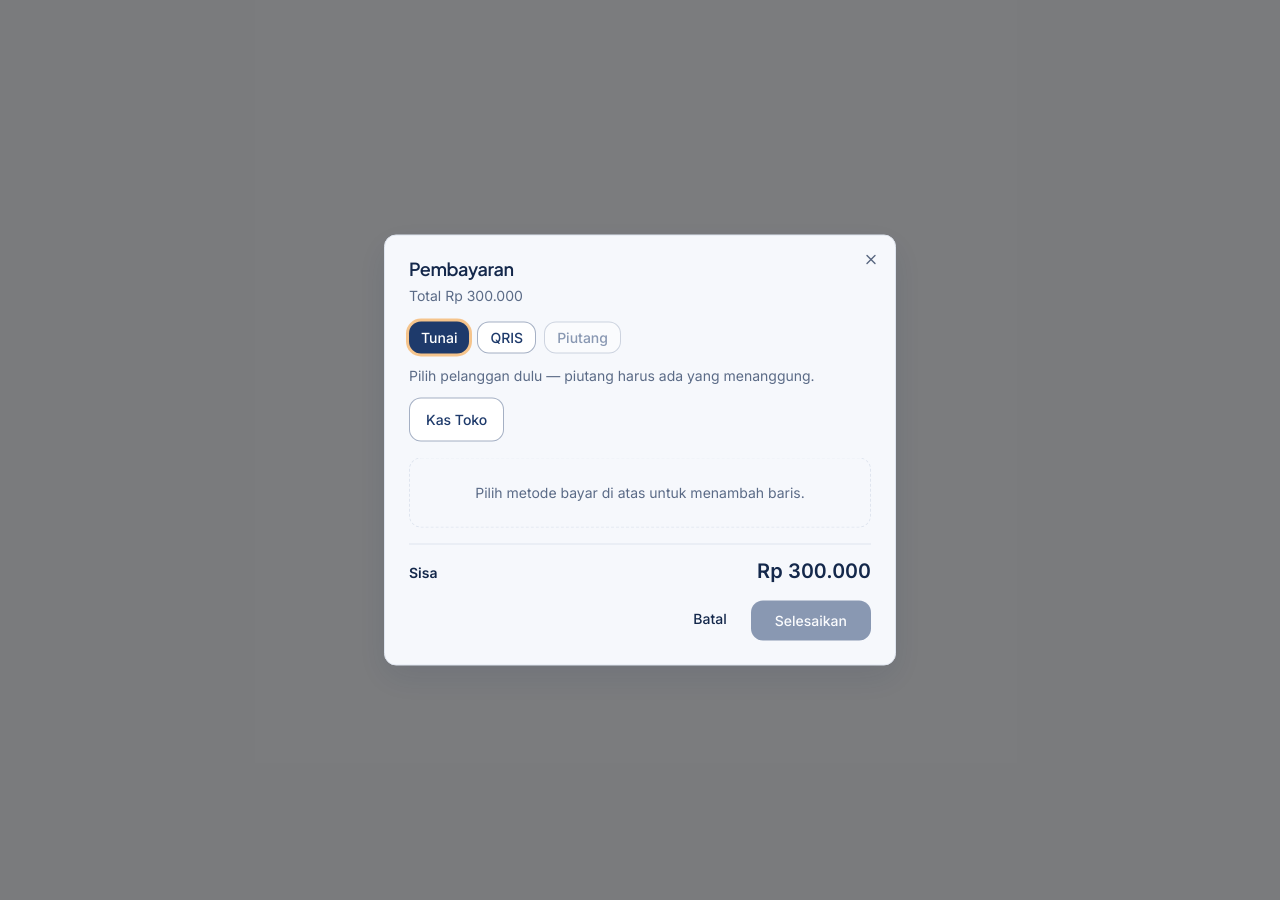
it: PosPaymentDialog — the remainder › refuses an overpayment that no cash line can absorb
Click the button "QRIS" at (507, 338), box [477,322,536,354]
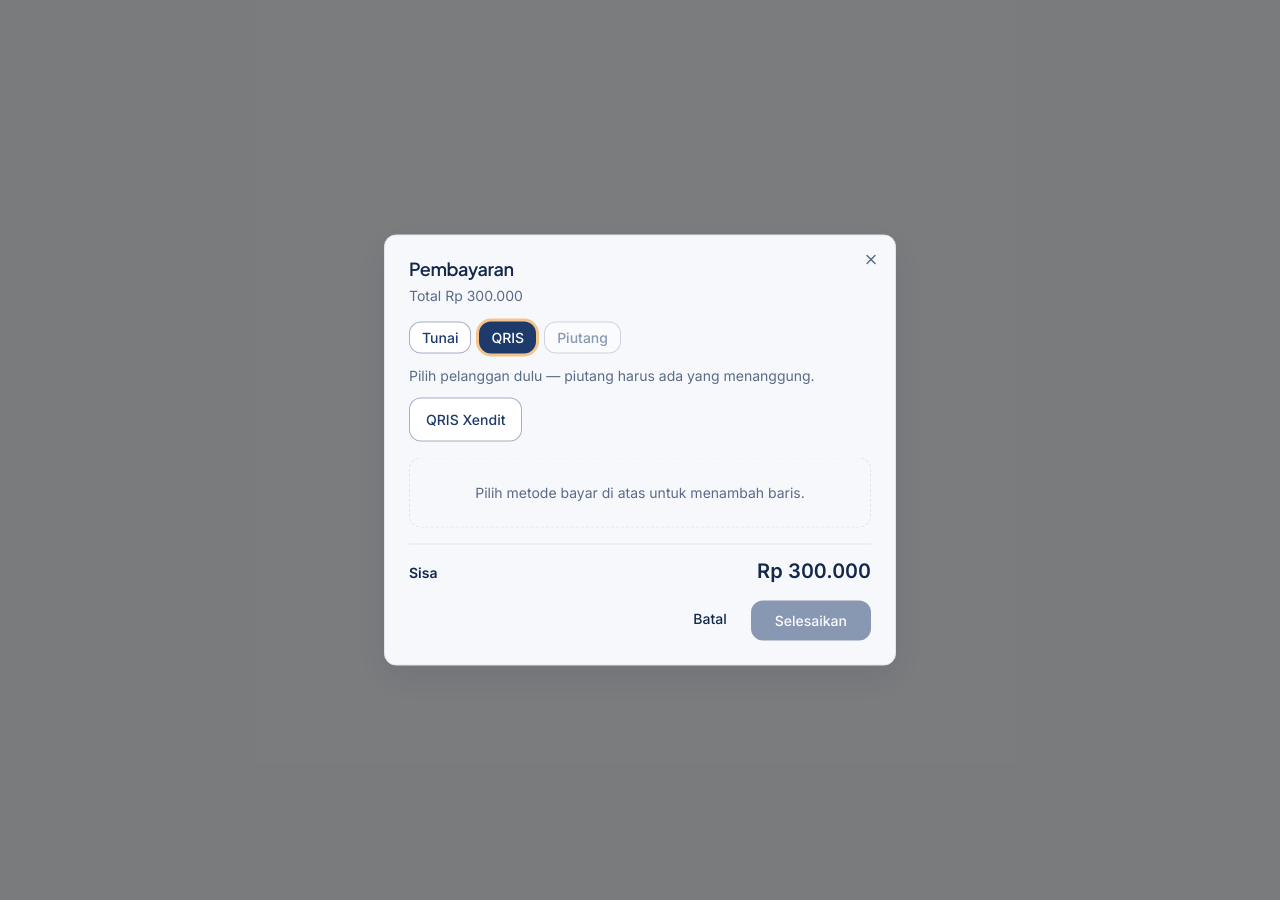
Click the button "QRIS Xendit" at (466, 420), box [409,398,522,442]
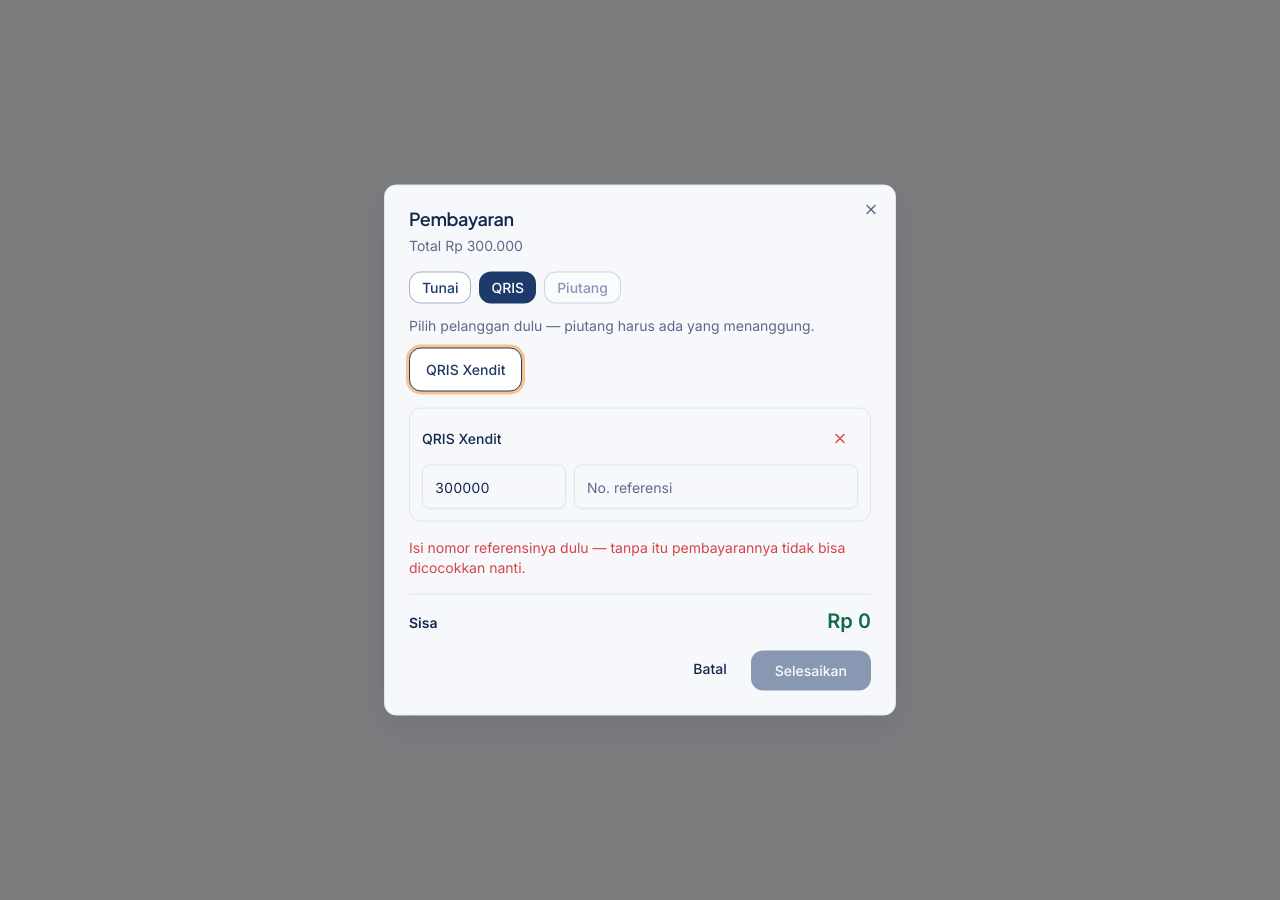
Replace the text in the field named "jumlah qris xendit" with "350000" at (494, 486), box [422,464,566,508]
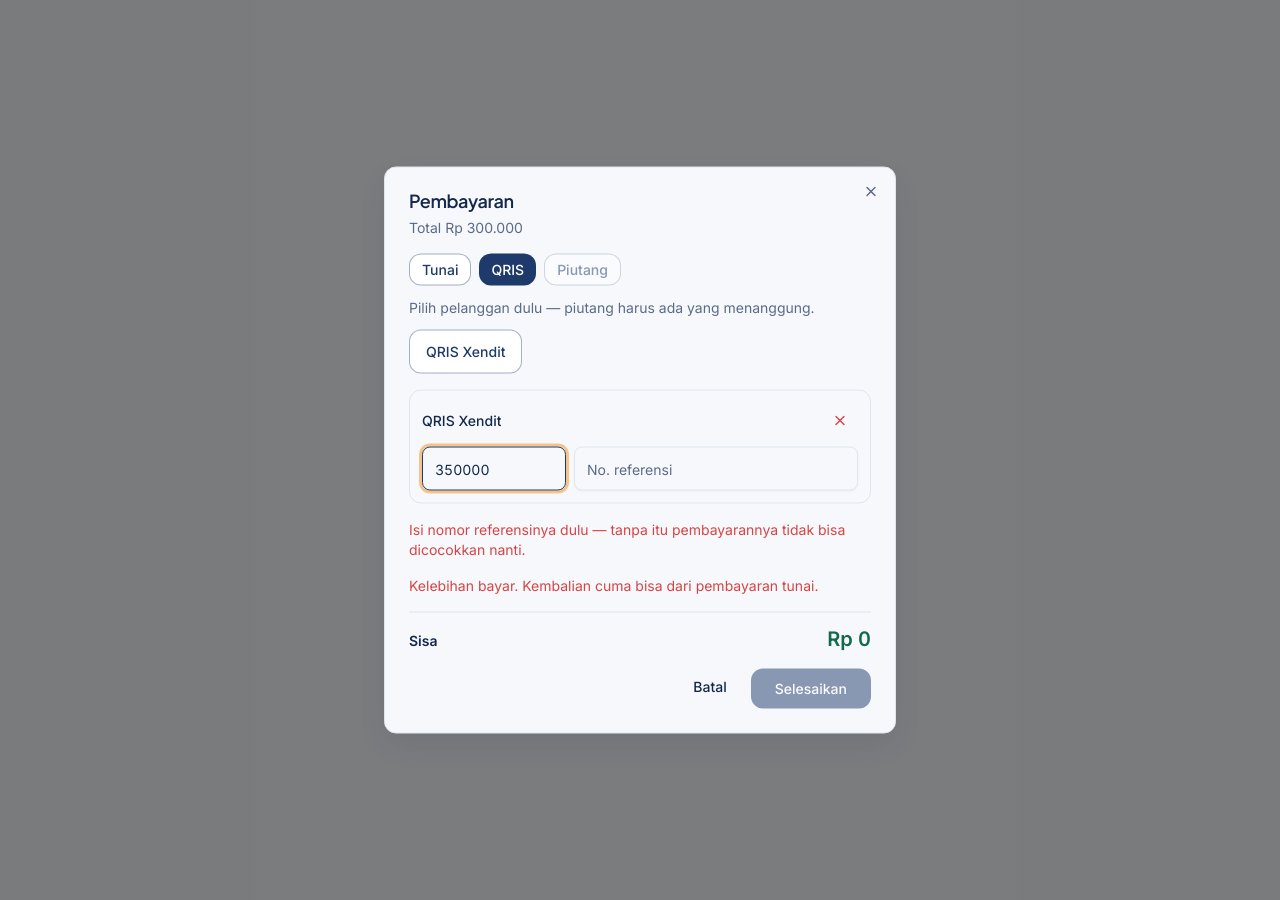
Expected: the button "Selesaikan" is disabled, [751,668,871,708]
Expected: the text "Kelebihan bayar. Kembalian cuma bisa dari pembayaran tunai." is shown, [409,576,871,596]
